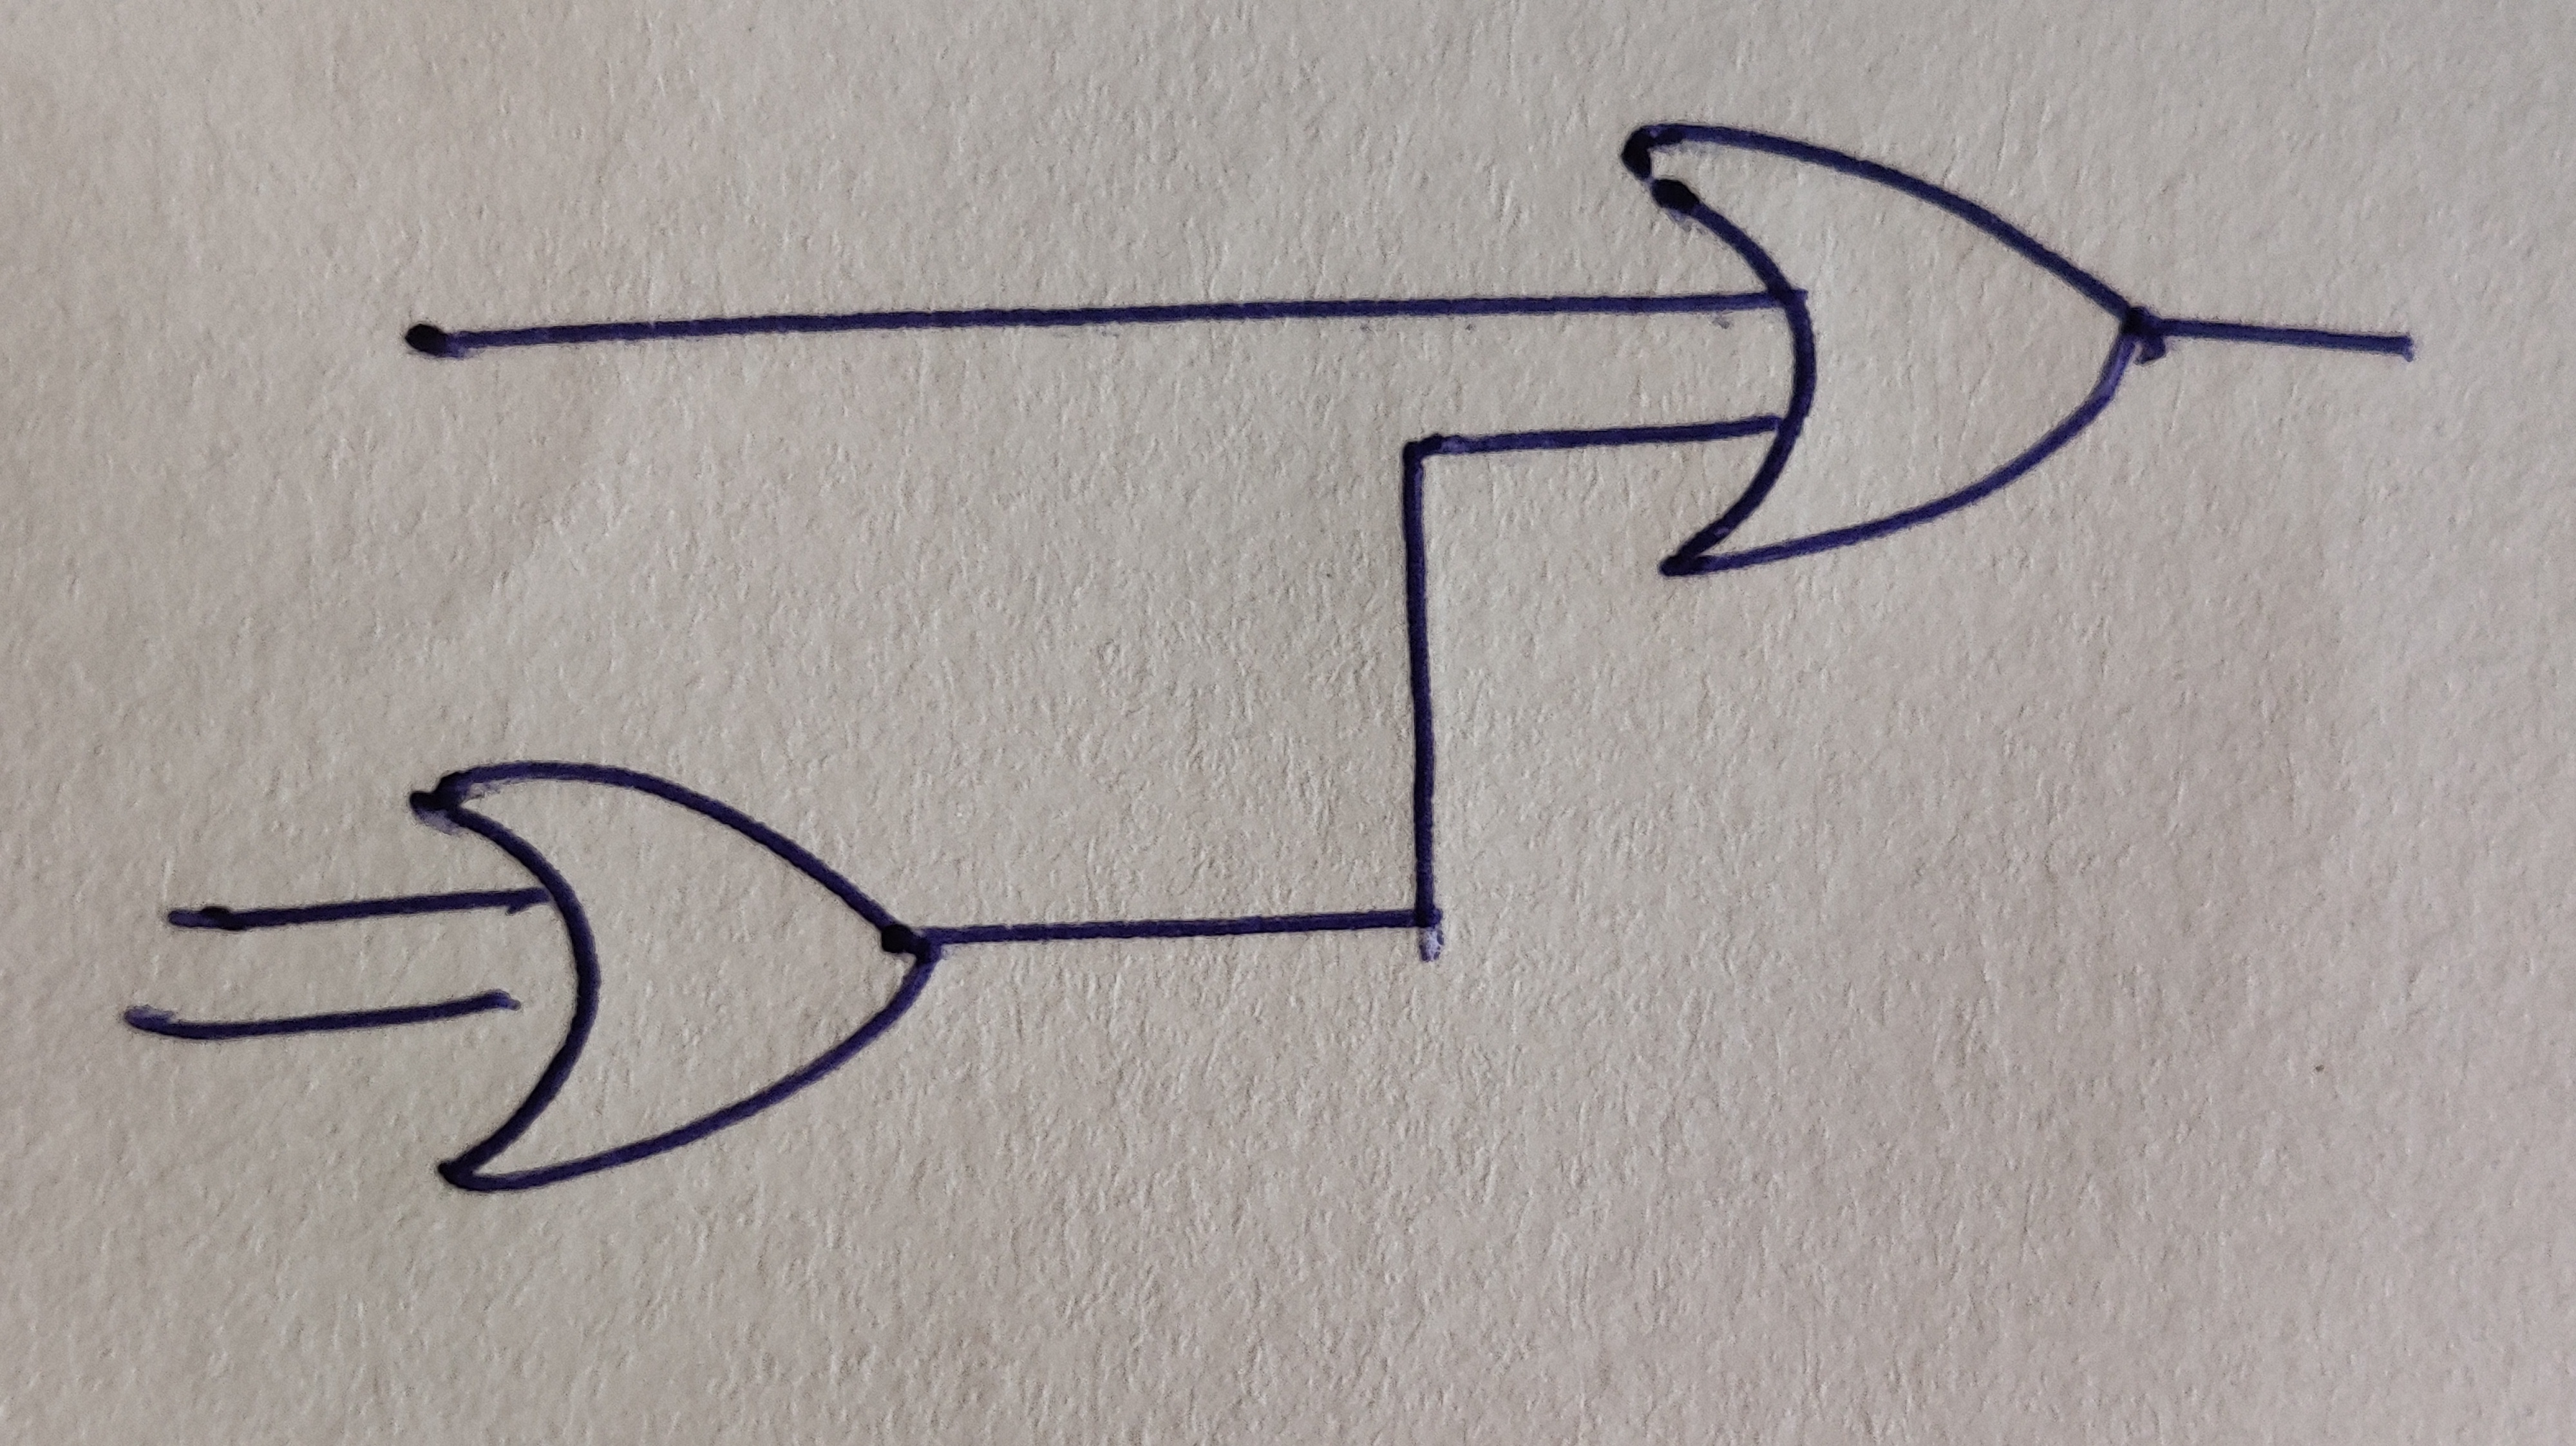or: (1621, 124, 2135, 576), (409, 762, 947, 1193)
